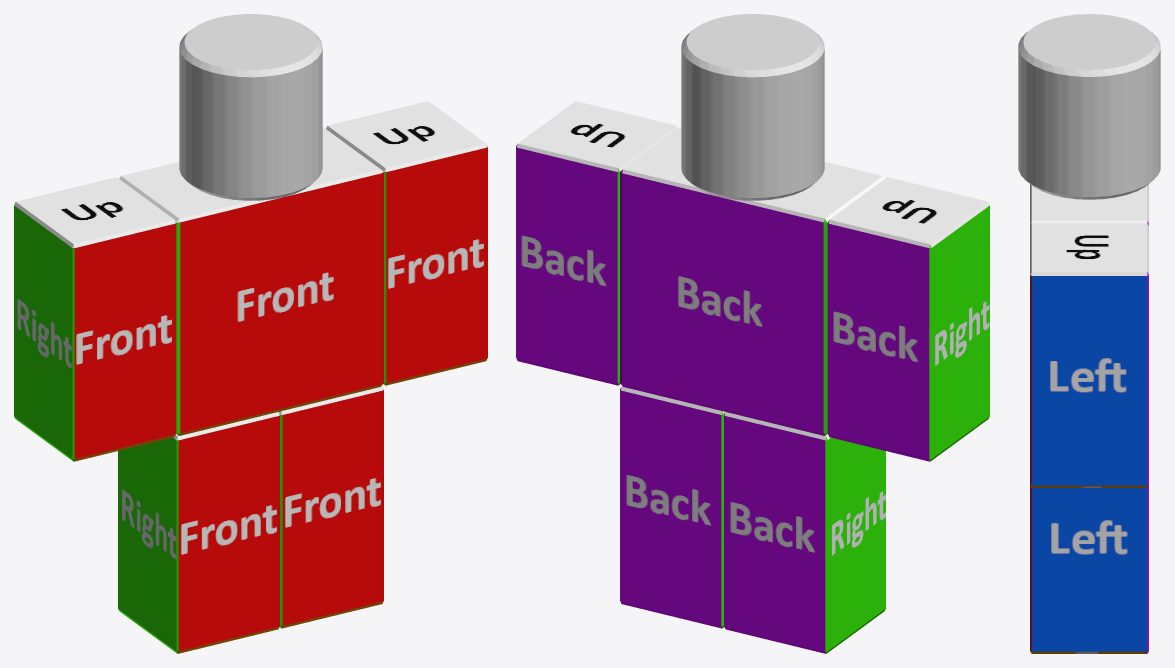
The model's file is newcharacter.glb.
The picture shows the model from 3 angles, left to right: view 1: azimuth 30°, elevation 25°; view 2: azimuth 150°, elevation 25°; view 3: azimuth 270°, elevation 25°; orthographic projection.
Visible parts, largest first — view 1: Torso, RightArm, RightLeg, LeftArm, Head, LeftLeg; view 2: Torso, RightArm, RightLeg, LeftArm, Head, LeftLeg; view 3: LeftArm, Head, LeftLeg, Torso.
Part boxes in pixels (bbox=[...]): Torso: bbox=[119, 127, 383, 435]; RightArm: bbox=[14, 177, 176, 461]; RightLeg: bbox=[118, 412, 279, 653]; LeftArm: bbox=[326, 101, 487, 385]; Head: bbox=[179, 14, 322, 200]; LeftLeg: bbox=[279, 386, 383, 628]; Torso: bbox=[620, 127, 884, 435]; RightArm: bbox=[827, 177, 989, 461]; RightLeg: bbox=[724, 412, 885, 653]; LeftArm: bbox=[516, 101, 677, 385]; Head: bbox=[681, 14, 824, 200]; LeftLeg: bbox=[620, 386, 724, 628]; LeftArm: bbox=[1030, 223, 1148, 487]; Head: bbox=[1018, 14, 1160, 199]; LeftLeg: bbox=[1030, 485, 1148, 653]; Torso: bbox=[1030, 184, 1148, 225].
Size of the model in its own units: 4 by 5.2 by 1.19.
Materials: 2 (2 with a texture image).
